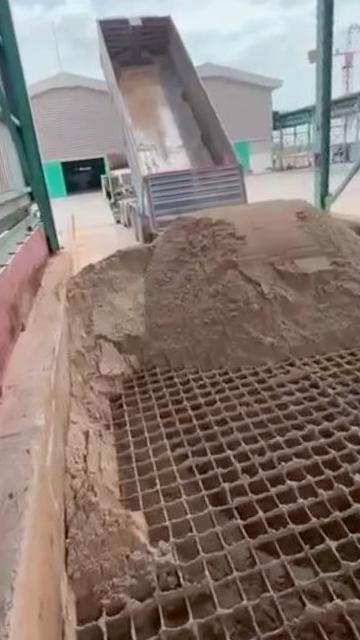sand: (66, 200, 360, 605)
